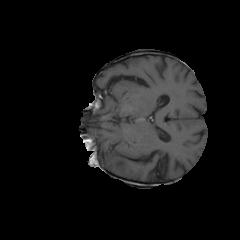glioma: (90, 140, 144, 178)
